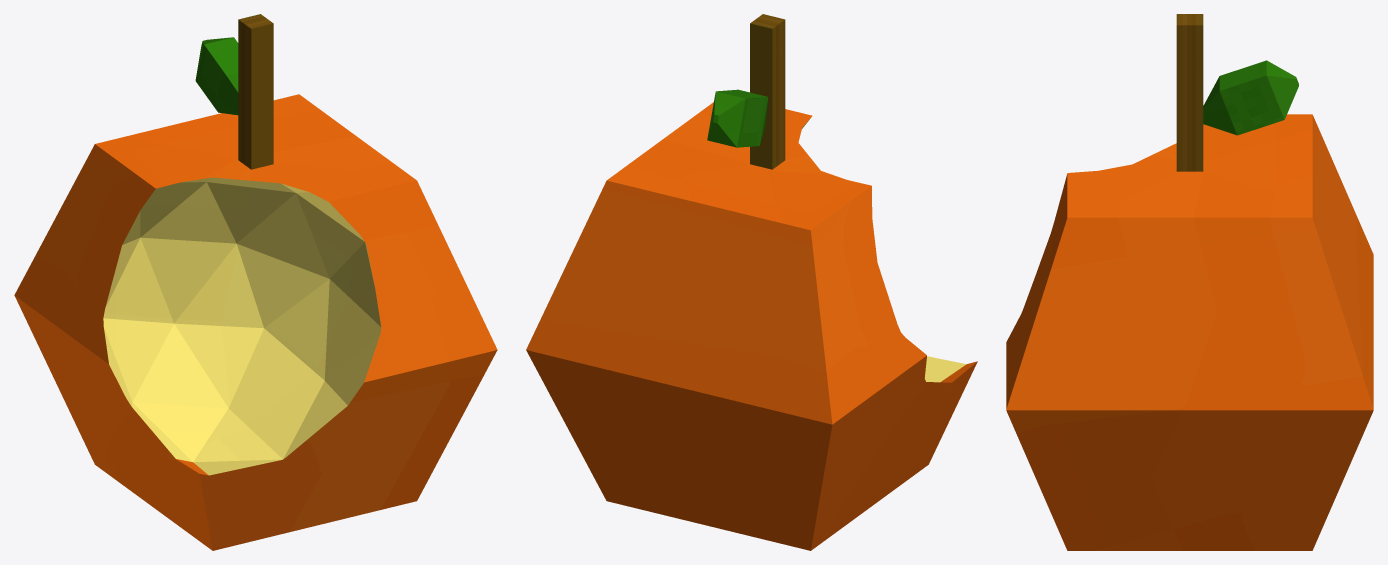
Rendered from OrangeConsumed.fbx.
The picture shows the model from 3 angles, left to right: view 1: azimuth 30°, elevation 25°; view 2: azimuth 150°, elevation 25°; view 3: azimuth 270°, elevation 25°; orthographic projection. The views are drawn at different scales.
Visible parts, largest first — view 1: Cube; view 2: Cube; view 3: Cube.
Boxes of the visible parts, left/top/right/bottom form: Cube: left=14, top=14, right=497, bottom=550; Cube: left=526, top=14, right=977, bottom=550; Cube: left=1006, top=14, right=1373, bottom=550.
Bounding box in the file's own units: 300 × 432 × 300.
